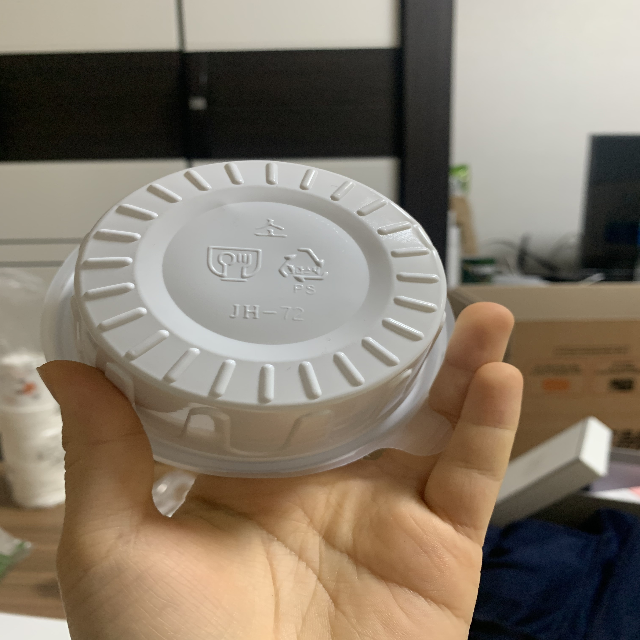ps: (277, 246, 331, 297)
